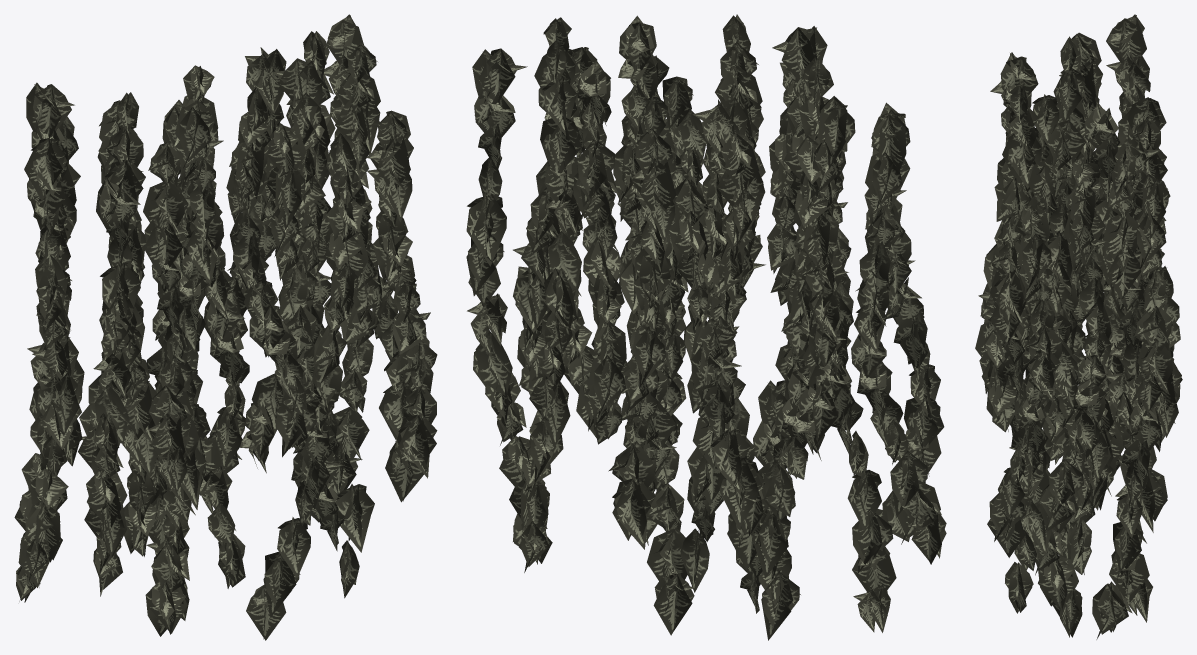
The model's file is RF3_Hanging_Moss.fbx.
The picture shows the model from 3 angles, left to right: view 1: azimuth 30°, elevation 25°; view 2: azimuth 150°, elevation 25°; view 3: azimuth 270°, elevation 25°; orthographic projection. The views are drawn at different scales.
Visible parts, largest first — view 1: RF3_Hanging_Moss; view 2: RF3_Hanging_Moss; view 3: RF3_Hanging_Moss.
Boxes of the visible parts, x1,y1,x2,y2 form: RF3_Hanging_Moss: [14, 14, 437, 640]; RF3_Hanging_Moss: [466, 14, 946, 640]; RF3_Hanging_Moss: [975, 14, 1182, 639].
Bounding box in the file's own units: 158 × 219 × 76.27.
